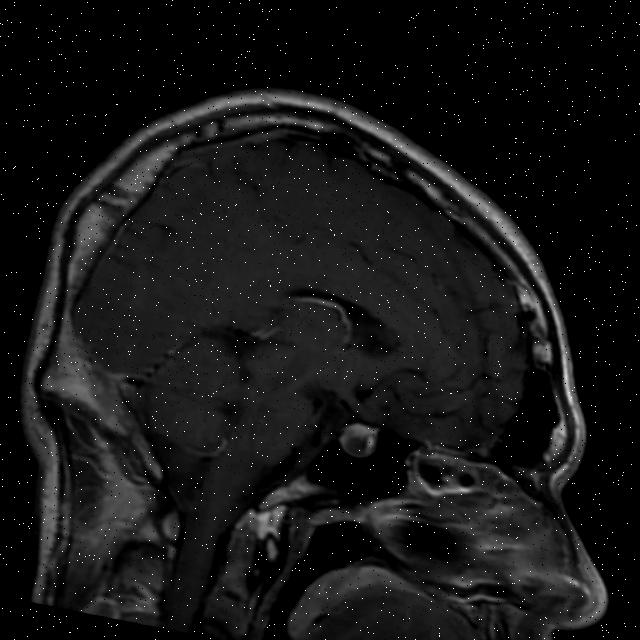Pituitary: (336, 419, 380, 463)
